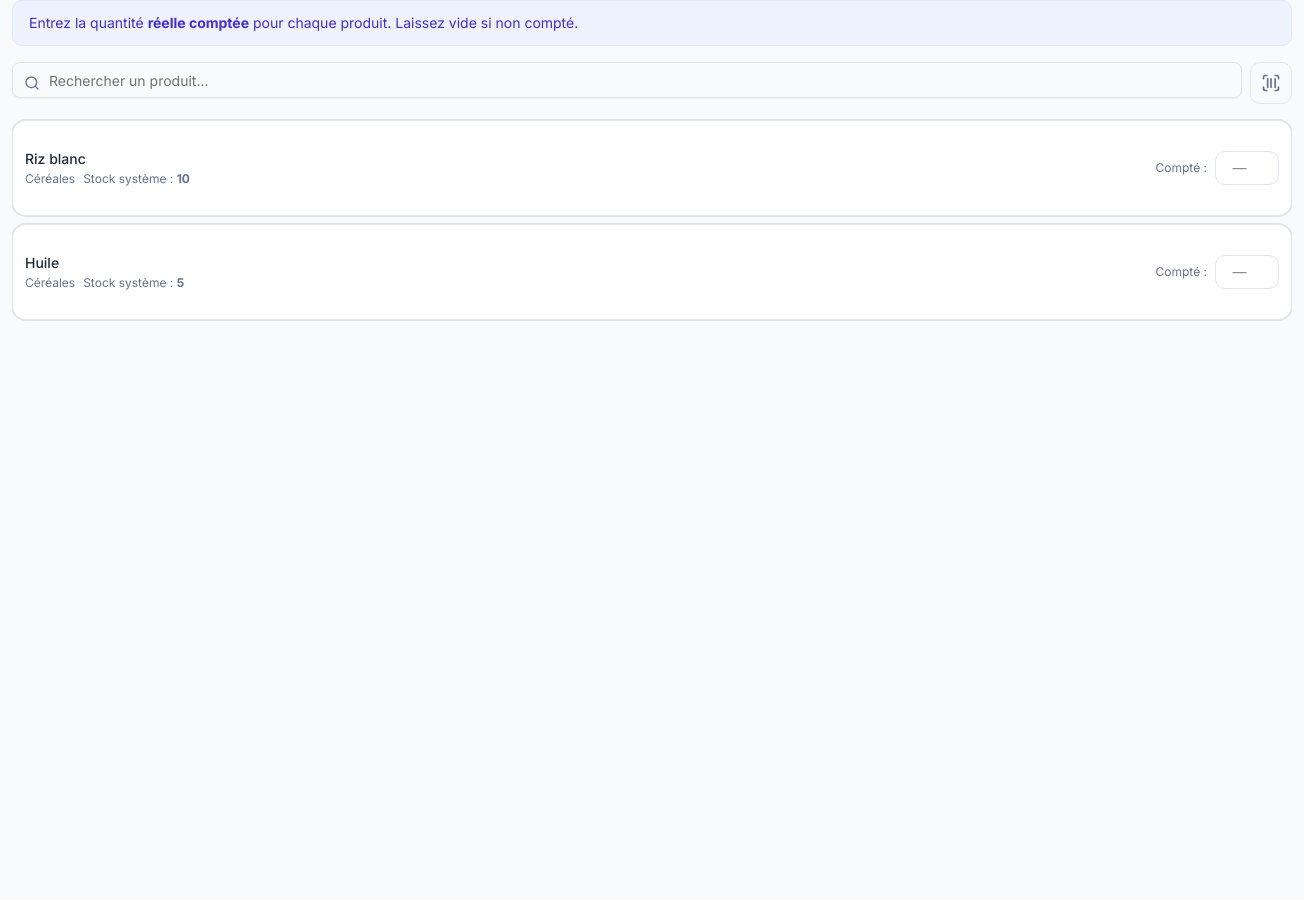
Test: InventoryCount › signale un échec partiel sans annoncer un succès complet
Type "7" into the number field named "Quantité comptée pour Riz blanc" at (1247,168), box [1215, 151, 1279, 185]
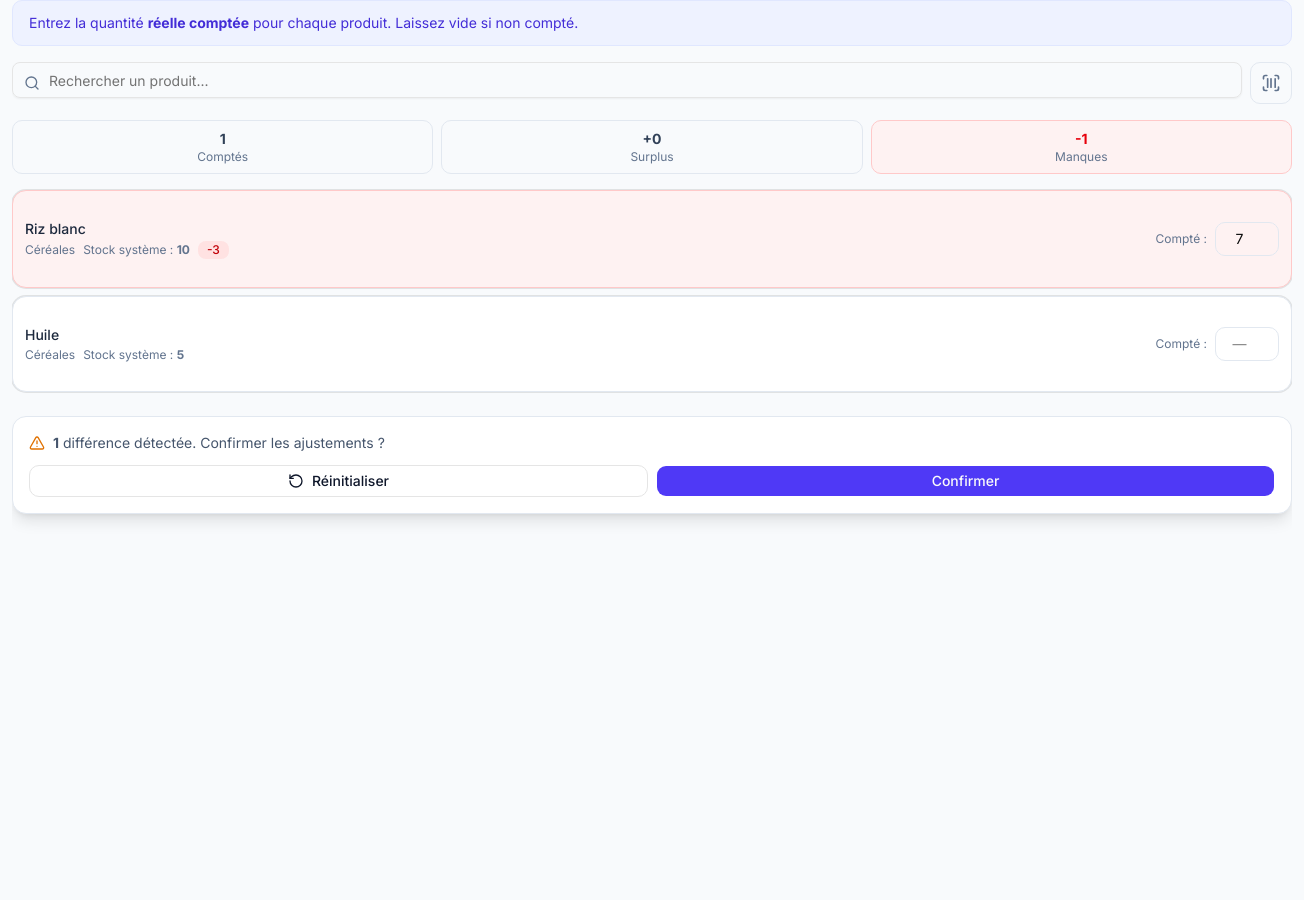
Type "2" into the number field with placeholder "—" at (1247,344), box [1215, 327, 1279, 361]
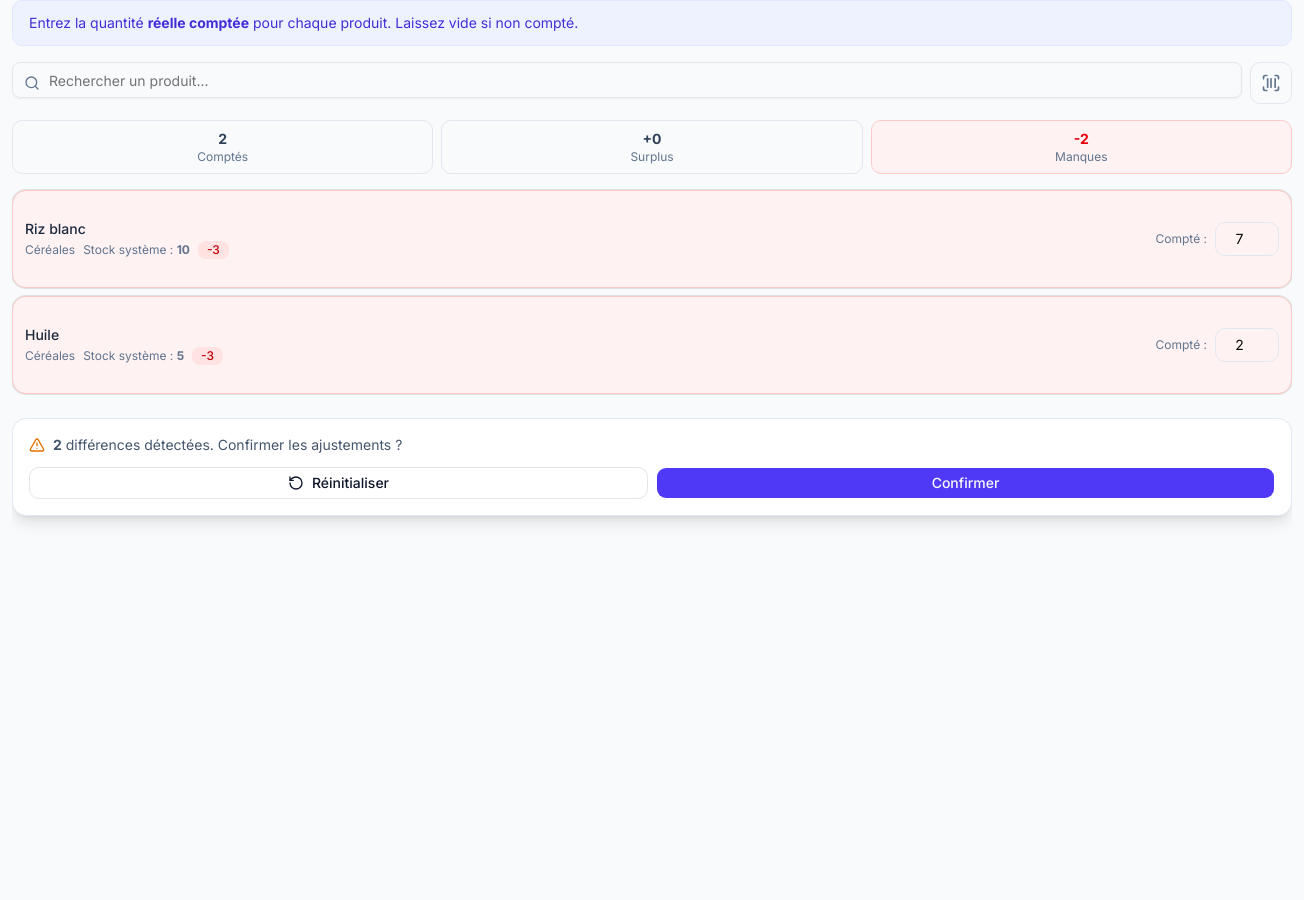
Click the button "Confirmer" at (966,483), box [656, 467, 1275, 499]
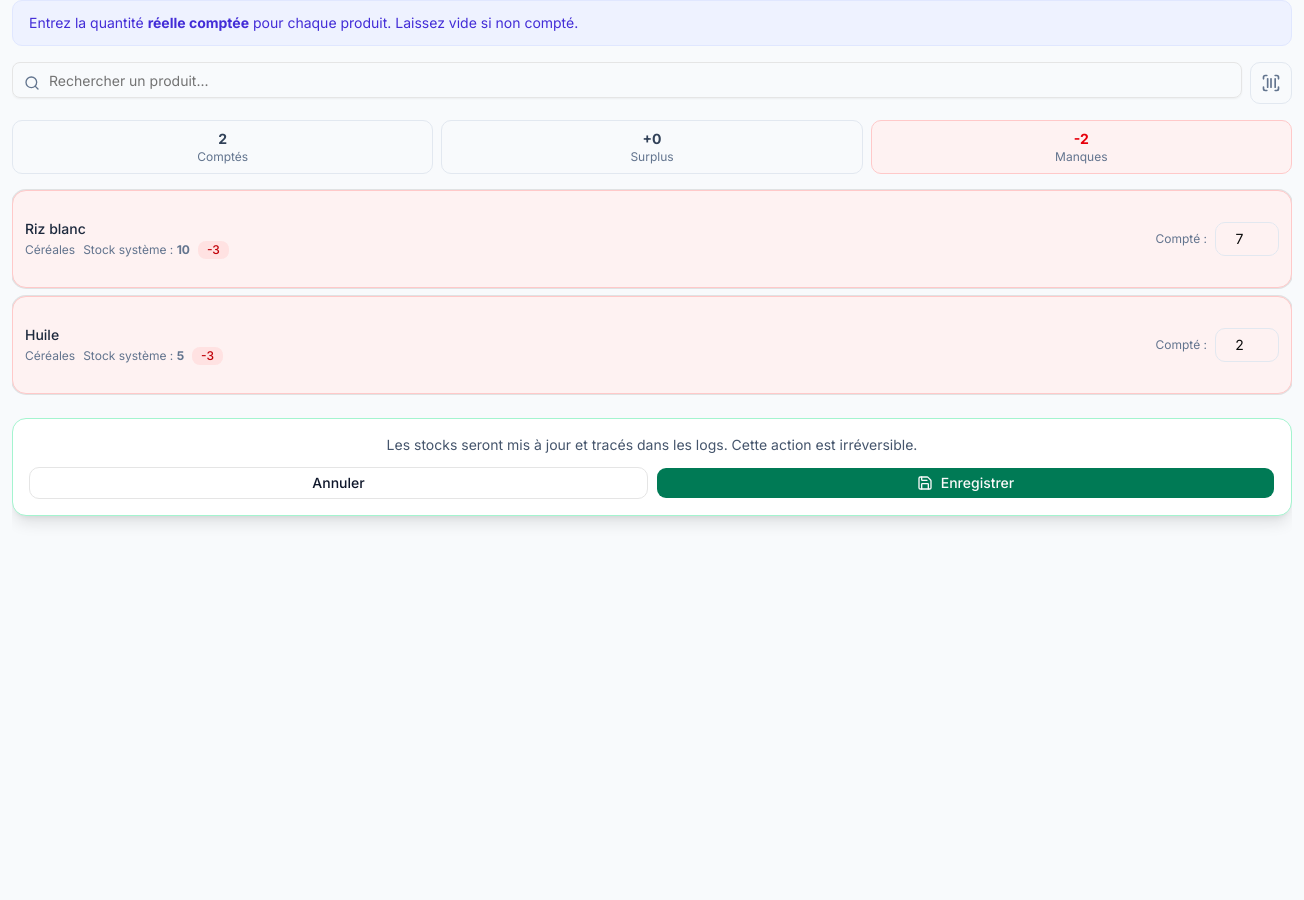
Click the button "Enregistrer" at (966,483), box [656, 467, 1275, 499]
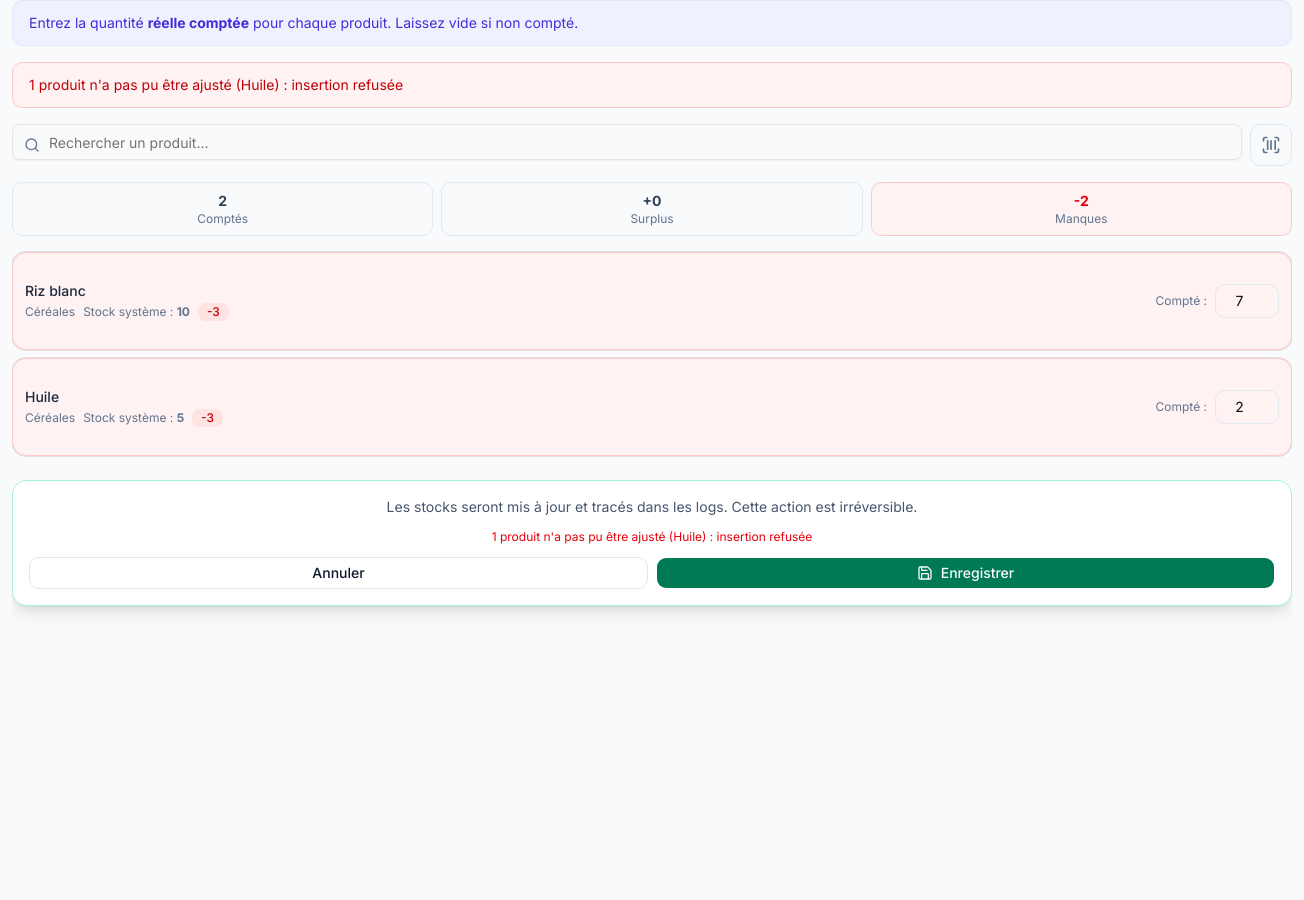
Result: the 1st text "1 produit n'a pas pu être ajusté (Huile) : insertion refusée" is shown at [12, 62, 1292, 108]
